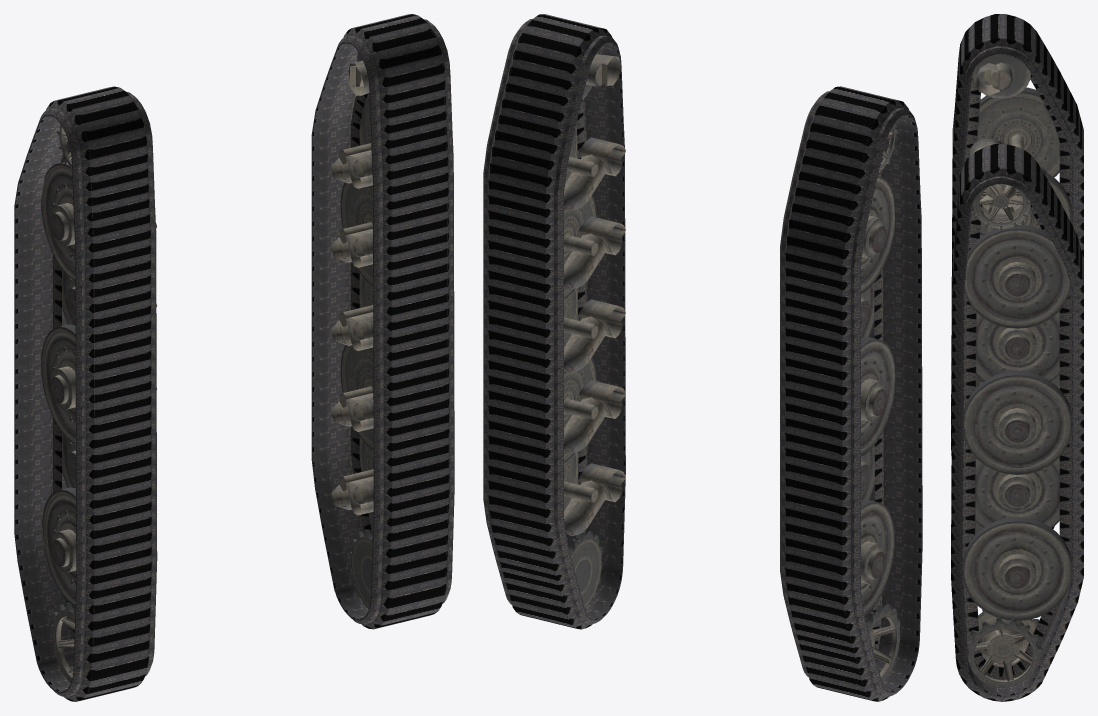
Rendered from Chassis.glb.
The picture shows the model from 3 angles, left to right: view 1: azimuth 30°, elevation 25°; view 2: azimuth 150°, elevation 25°; view 3: azimuth 270°, elevation 25°; orthographic projection. The views are drawn at different scales.
Visible parts, largest first — view 1: set_3_group_0, set_2_group_0, set_0_group_0, set_1_group_0; view 2: set_3_group_0, set_2_group_0, set_0_group_0, set_1_group_0; view 3: set_0_group_0, set_2_group_0, set_3_group_0, set_1_group_0.
Part boxes in pixels (left/top/right/bottom): set_3_group_0: left=14, top=86, right=157, bottom=701; set_2_group_0: left=311, top=14, right=454, bottom=629; set_0_group_0: left=331, top=52, right=373, bottom=609; set_1_group_0: left=41, top=124, right=156, bottom=682; set_3_group_0: left=780, top=86, right=922, bottom=701; set_2_group_0: left=483, top=14, right=625, bottom=629; set_0_group_0: left=564, top=52, right=625, bottom=608; set_1_group_0: left=861, top=124, right=900, bottom=682; set_0_group_0: left=963, top=184, right=1071, bottom=687; set_2_group_0: left=951, top=144, right=1083, bottom=701; set_3_group_0: left=951, top=14, right=1083, bottom=528; set_1_group_0: left=970, top=54, right=1071, bottom=534.
Size of the model in its own units: 2.83 by 4.27 by 0.9653.
4 materials, 4 textured.
